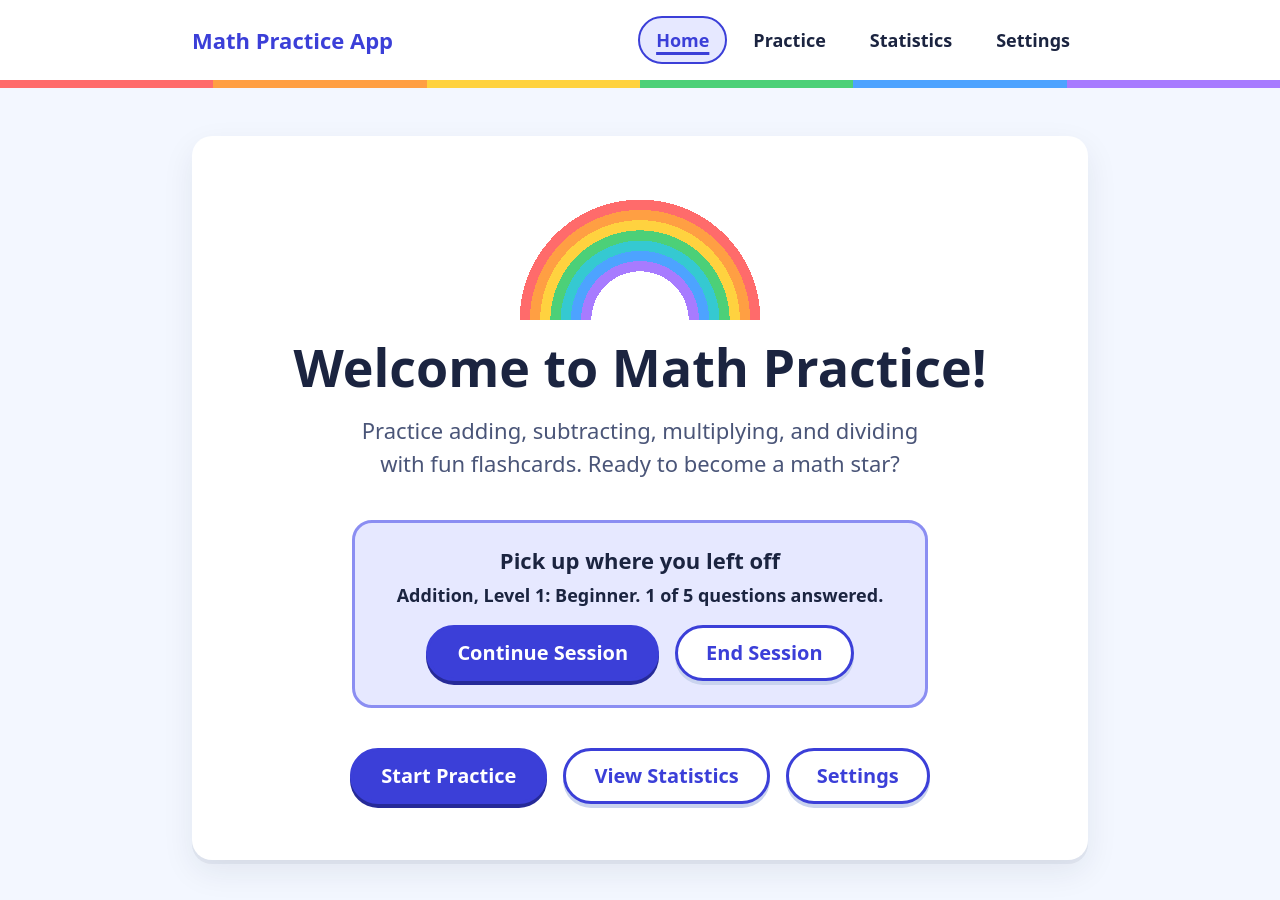
Test: ResumeSession on the home page › for a session in progress › goes back to the question with Continue Session
Click the link "Continue Session" at (543, 653), box [426, 625, 659, 681]
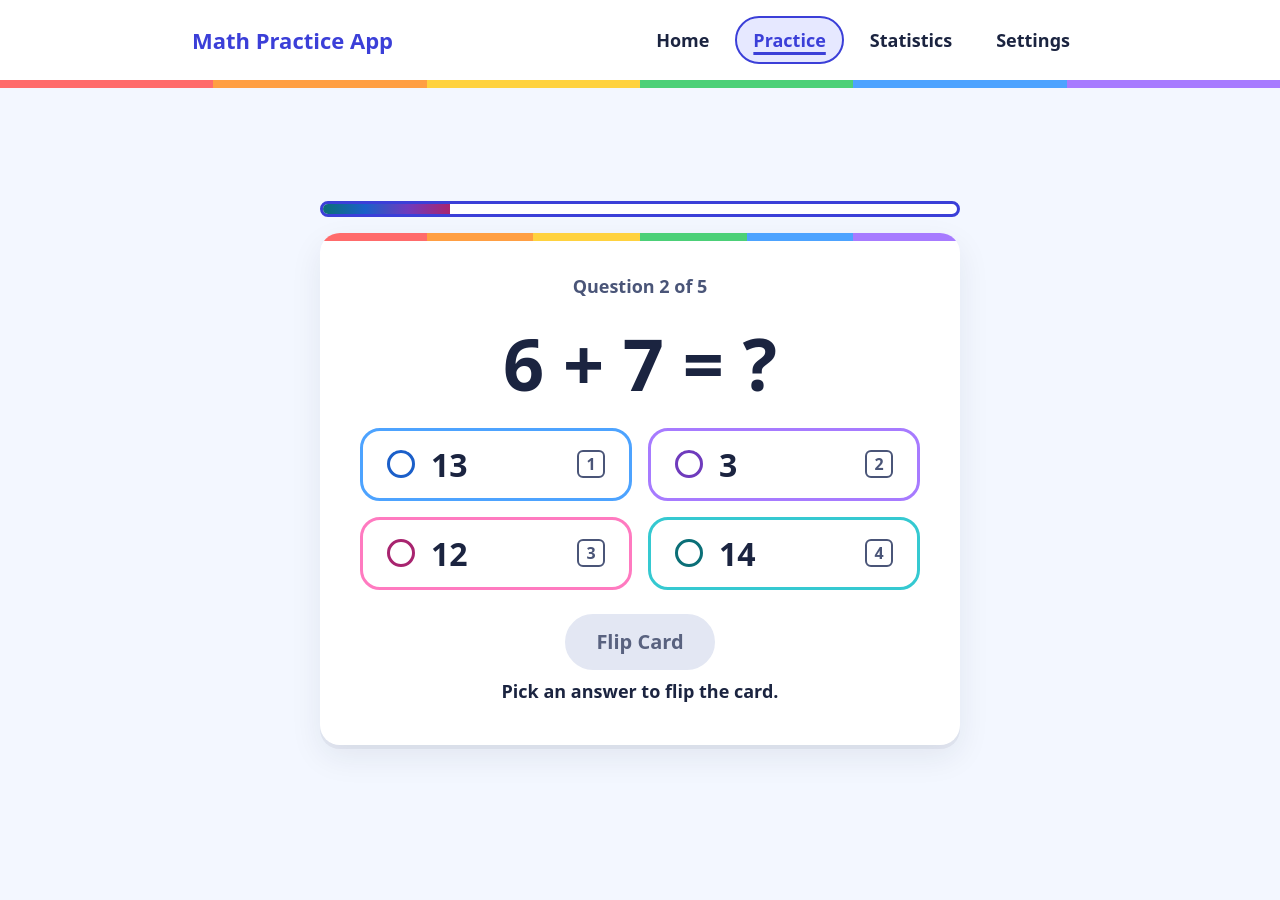
Check: the text "Question 2 of 5" is shown, box [573, 273, 707, 300]
